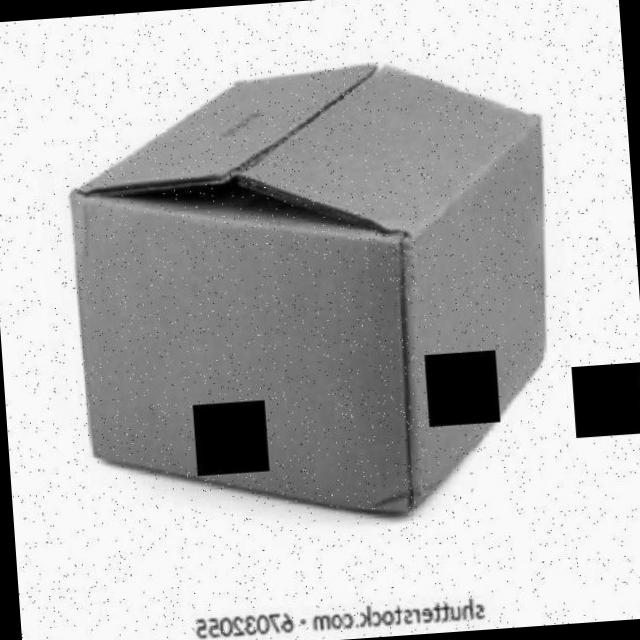box: (56, 49, 583, 539)
